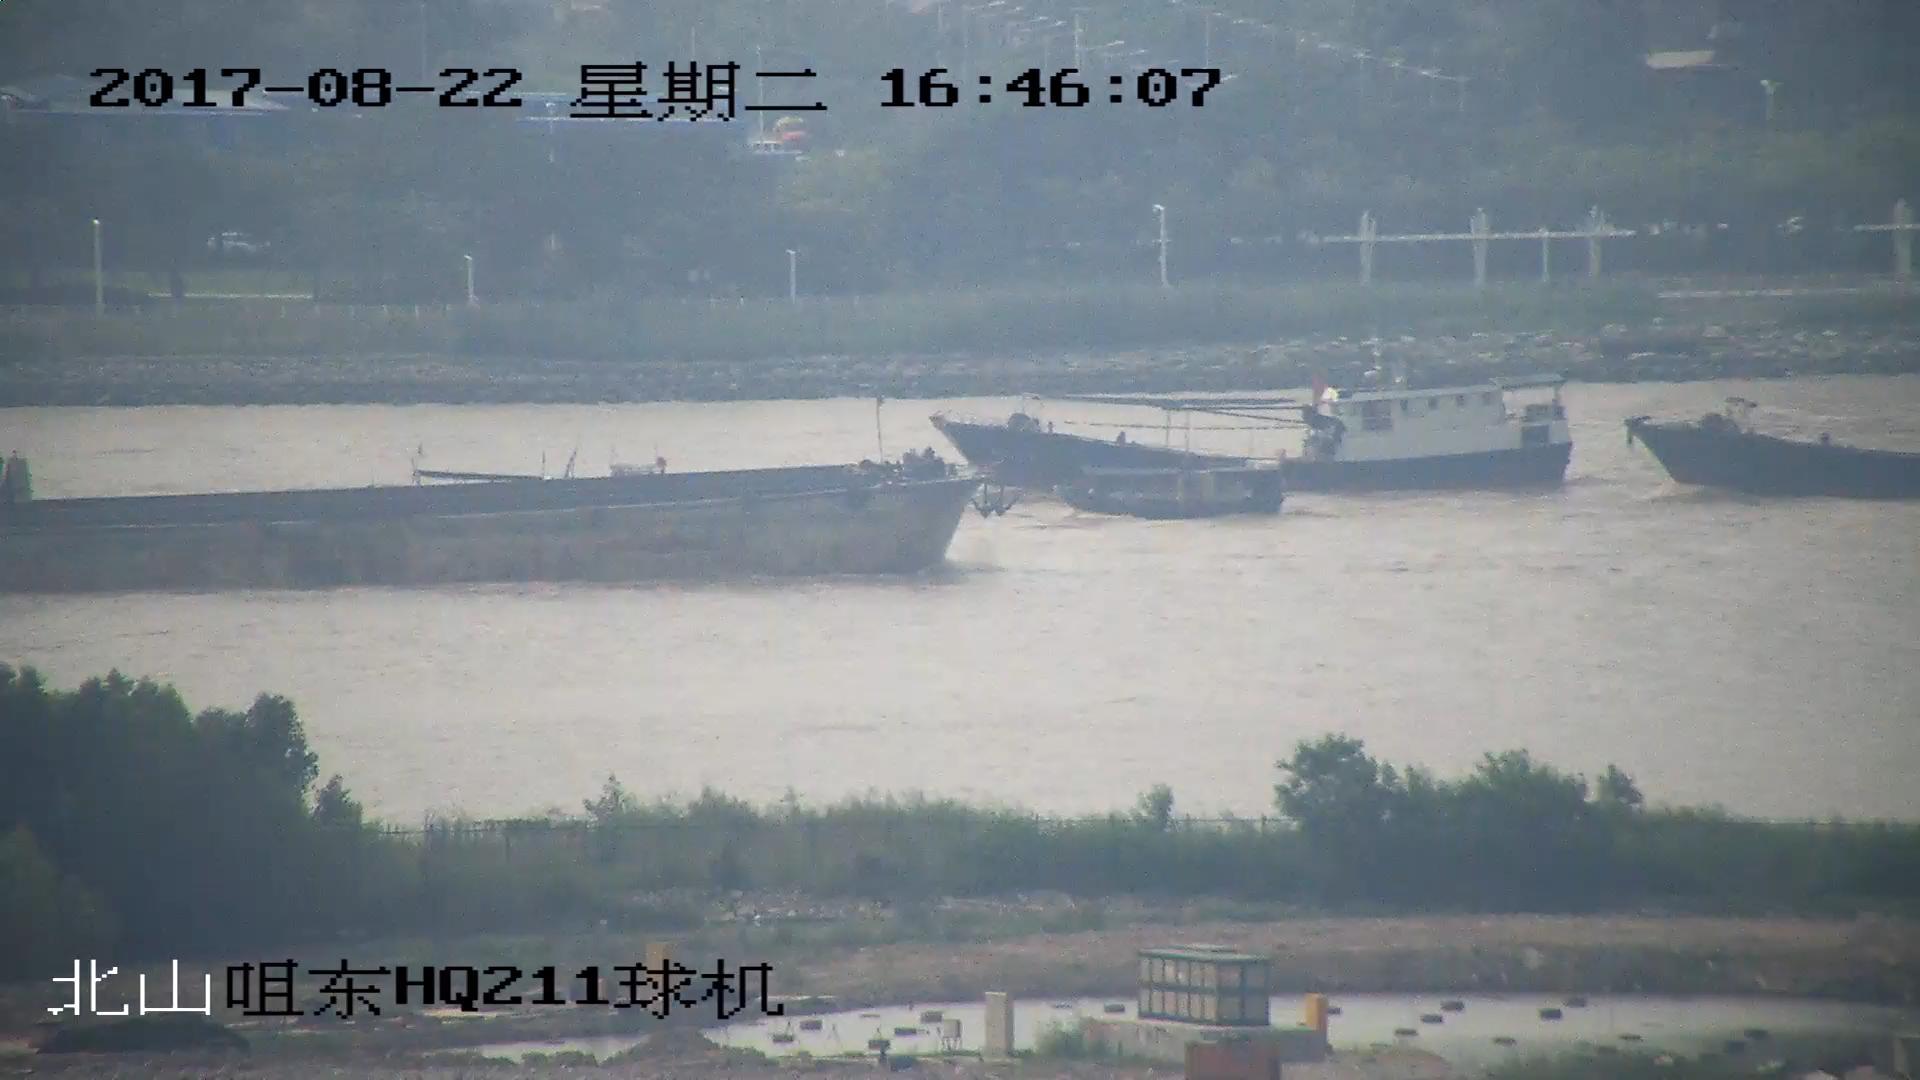bulk cargo carrier: (1, 454, 1010, 599)
fishing boat: (935, 382, 1580, 493), (1629, 397, 1920, 501), (1065, 454, 1278, 514)
